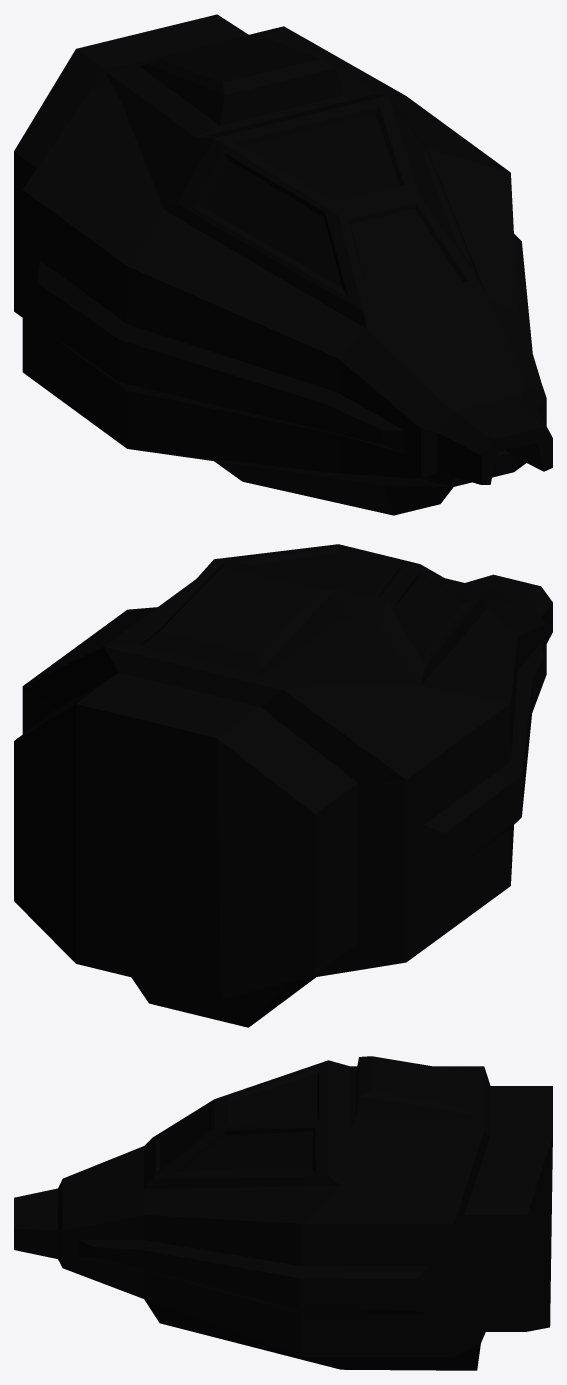
File: space_SM_Veh_Part_Cockpit_03.gltf
3 views of the same model, one above another, from view 1: azimuth 30°, elevation 25°; view 2: azimuth 150°, elevation 25°; view 3: azimuth 270°, elevation 25° (orthographic). The views are drawn at different scales.
Parts seen in each view (by area): view 1: SM_Veh_Part_Cockpit_03; view 2: SM_Veh_Part_Cockpit_03; view 3: SM_Veh_Part_Cockpit_03.
Part boxes in pixels (x1,y1,x2,y2): SM_Veh_Part_Cockpit_03: (14,14,552,515); SM_Veh_Part_Cockpit_03: (14,544,552,1027); SM_Veh_Part_Cockpit_03: (14,1056,552,1370).
Bounding box in the file's own units: 2.66 × 2.39 × 4.18.
Materials: 1 (1 with a texture image).
